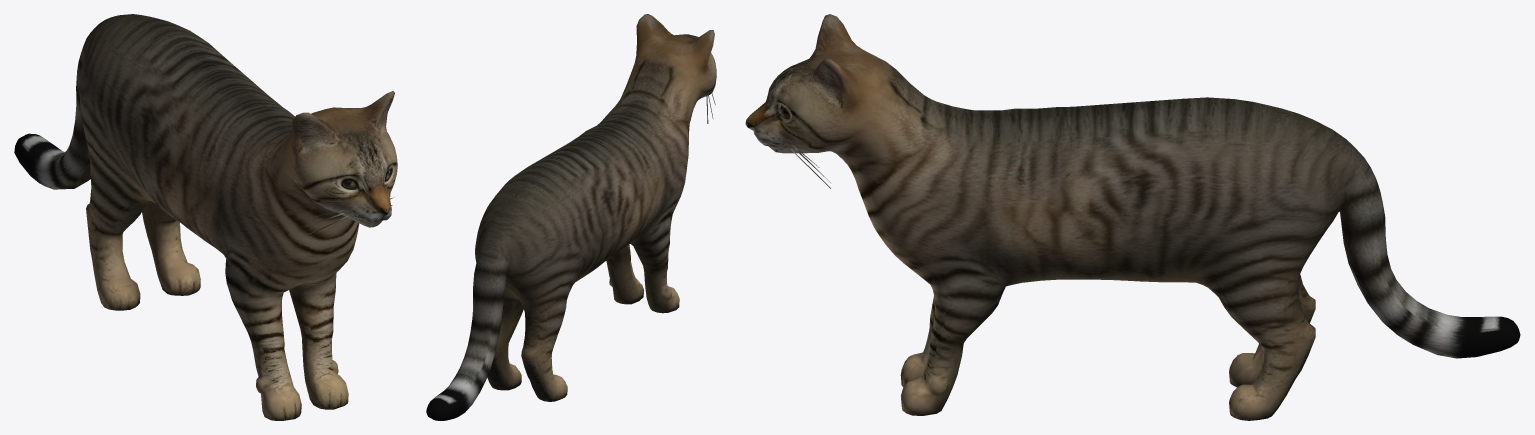
Rendered from cat_model.glb.
The picture shows the model from 3 angles, left to right: view 1: azimuth 30°, elevation 25°; view 2: azimuth 150°, elevation 25°; view 3: azimuth 270°, elevation 25°; orthographic projection. The views are drawn at different scales.
Parts seen in each view (by area): view 1: texture_pbr_20250901; view 2: texture_pbr_20250901; view 3: texture_pbr_20250901.
Boxes of the visible parts, bbox=[...] form: texture_pbr_20250901: bbox=[14, 14, 397, 420]; texture_pbr_20250901: bbox=[426, 14, 716, 420]; texture_pbr_20250901: bbox=[745, 14, 1520, 420].
Bounding box in the file's own units: 0.3495 × 0.9802 × 1.9.
1 material, 1 textured.
